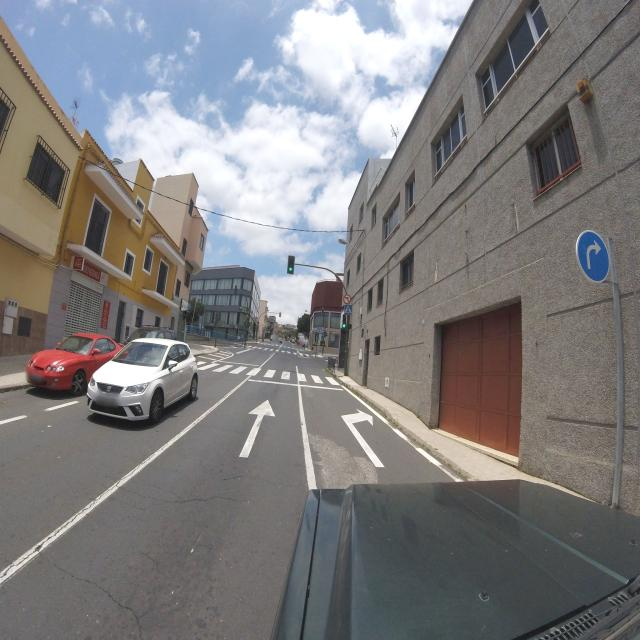car: (85, 338, 199, 425), (25, 333, 125, 397), (132, 326, 175, 342), (292, 338, 296, 343)
